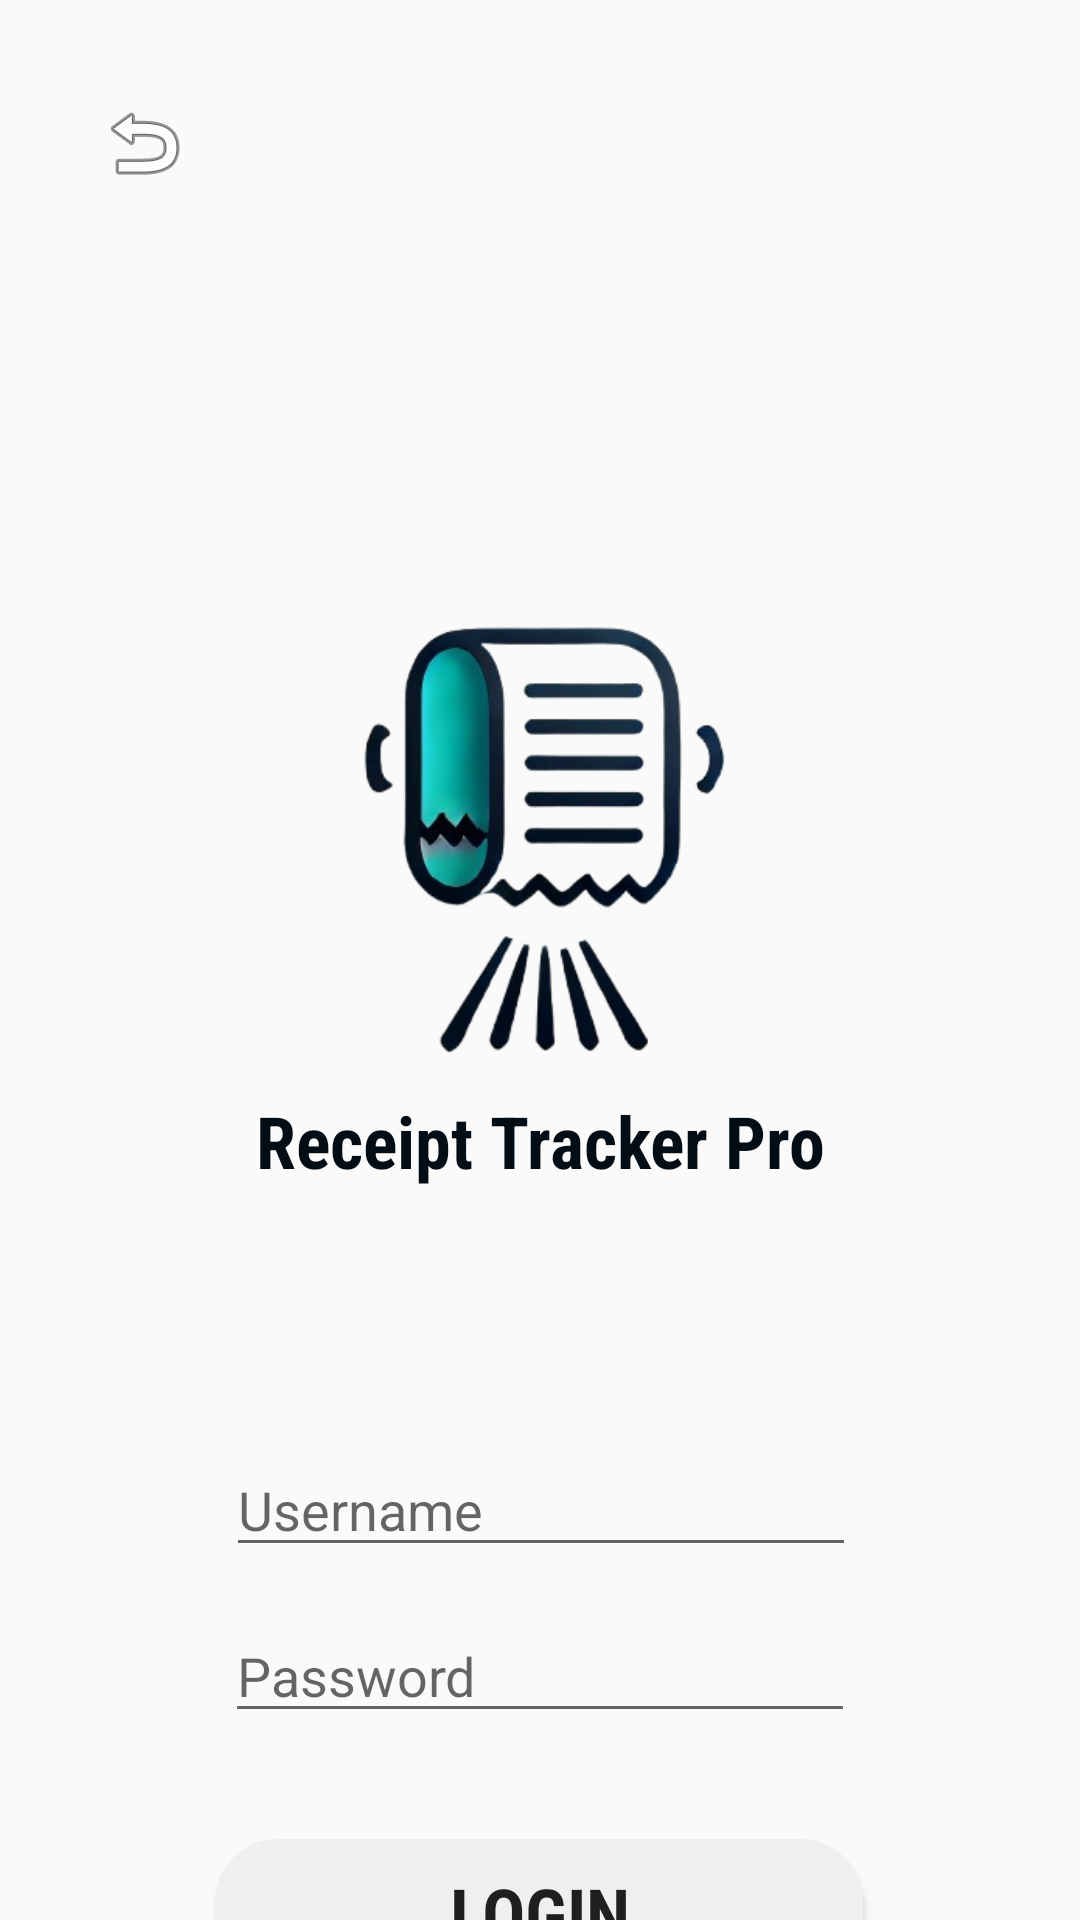

Icons on this 1080*1920 Android screen, each with the point to tap as point (x, y):
revert: point (145, 143)
